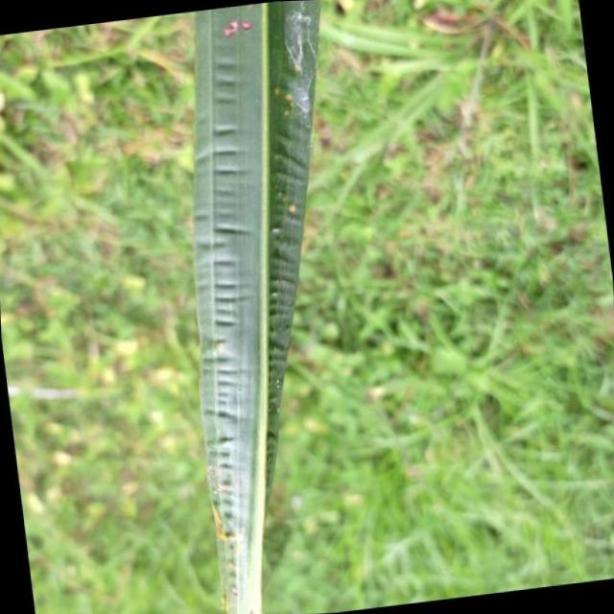Boron: (192, 0, 321, 614)
